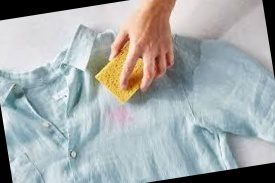lipstick: (105, 101, 138, 124)
